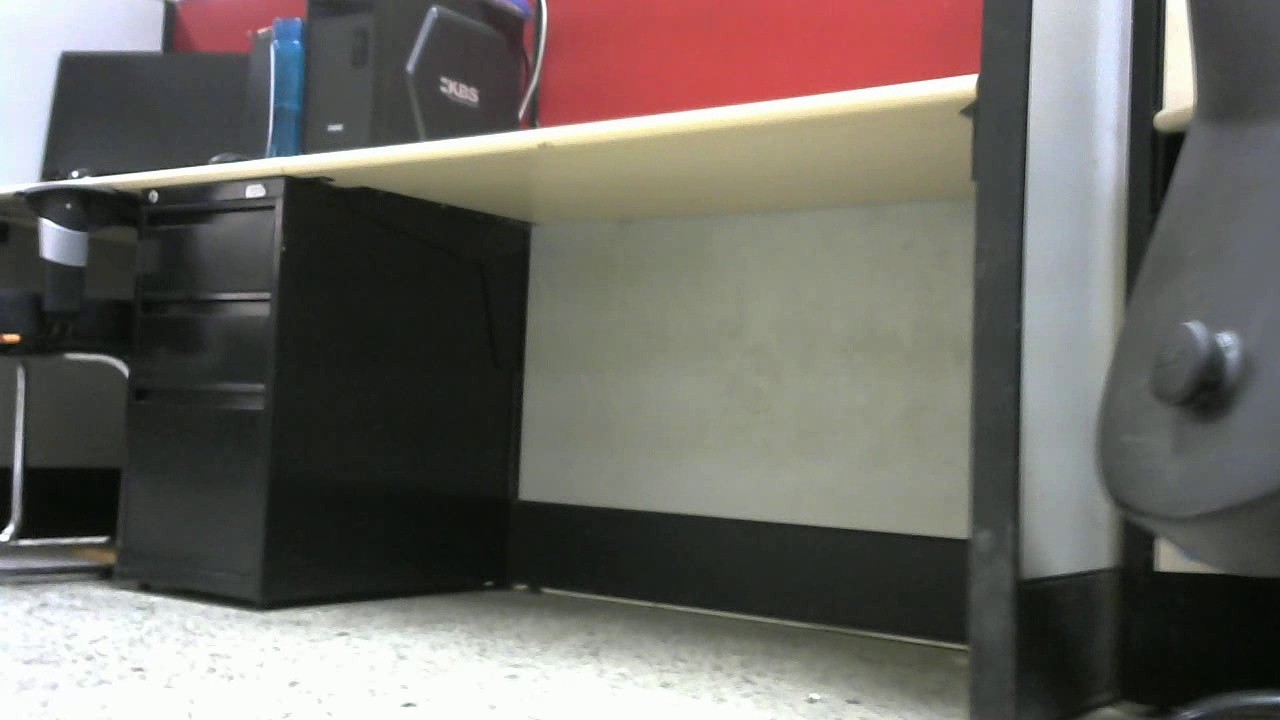chair: (1, 188, 159, 580)
